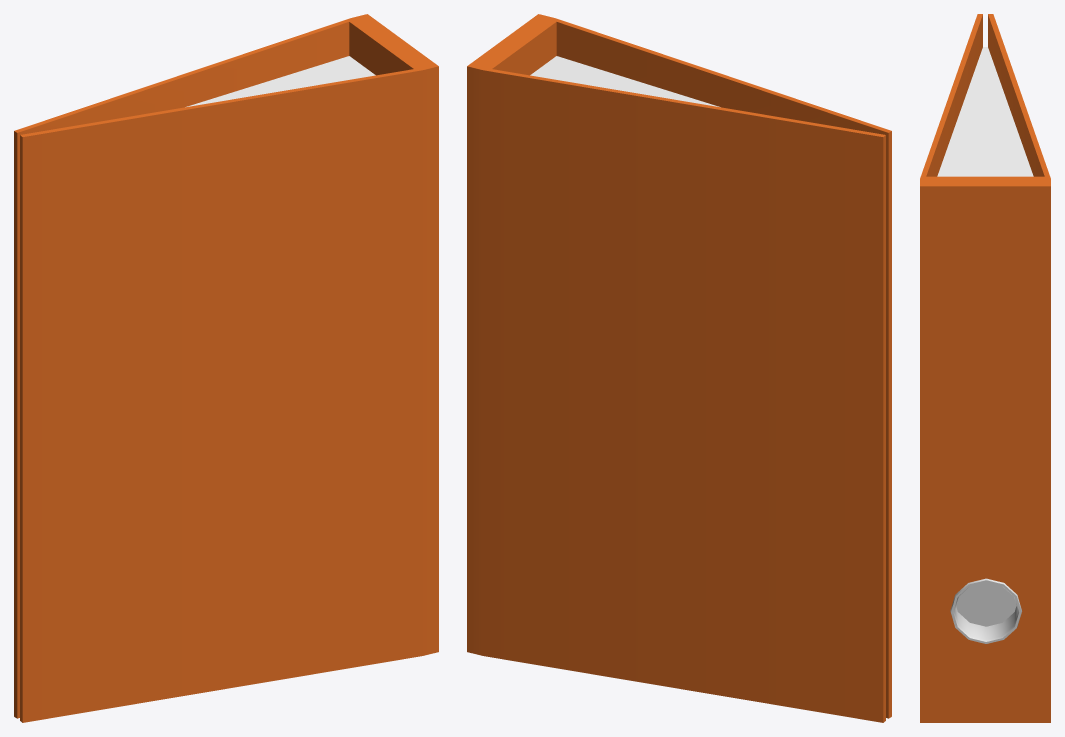
The model's file is Carpeta02.fbx.
The picture shows the model from 3 angles, left to right: view 1: azimuth 30°, elevation 25°; view 2: azimuth 150°, elevation 25°; view 3: azimuth 270°, elevation 25°; orthographic projection. The views are drawn at different scales.
Parts seen in each view (by area): view 1: Carpeta02; view 2: Carpeta02; view 3: Carpeta02.
Boxes of the visible parts, x1,y1,x2,y2 form: Carpeta02: [14, 14, 438, 722]; Carpeta02: [467, 14, 891, 722]; Carpeta02: [920, 14, 1050, 722].
Size of the model in its own units: 34.66 by 50.08 by 11.07.
